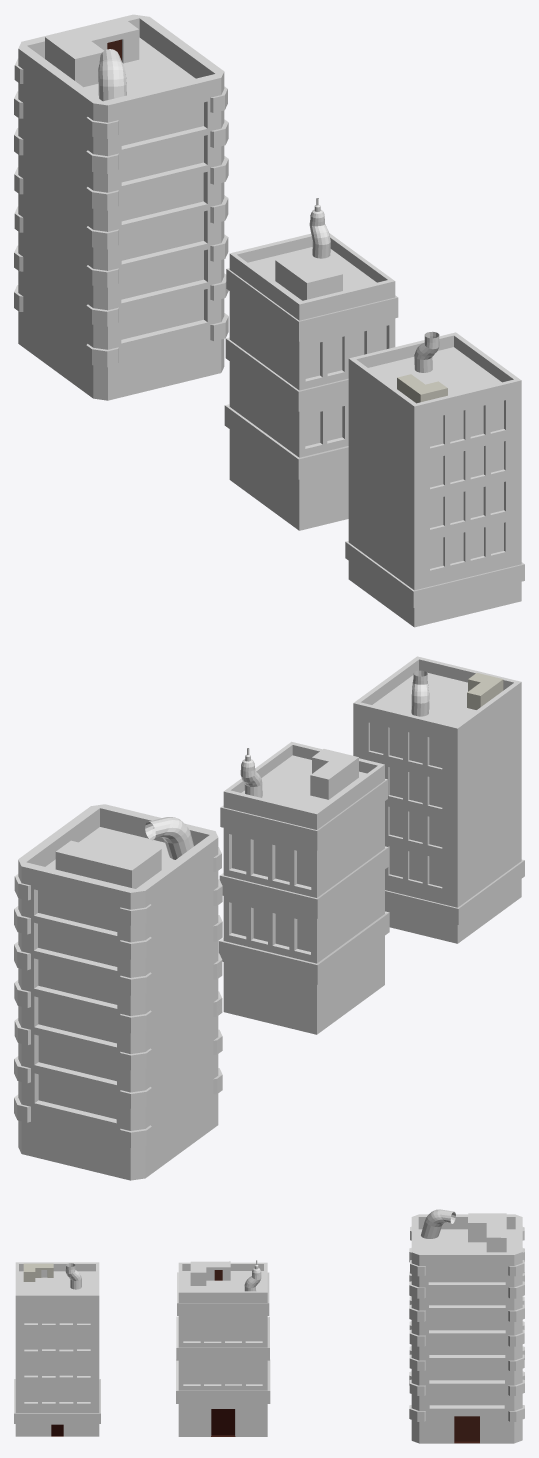
Rendered from Buildings.fbx.
3 views of the same model, one above another, from view 1: azimuth 30°, elevation 25°; view 2: azimuth 150°, elevation 25°; view 3: azimuth 270°, elevation 25° (orthographic). The views are drawn at different scales.
Parts seen in each view (by area): view 1: Cube.002, Cube.001, Cube, Cube.003, Cylinder, Cylinder.001, Cylinder.002; view 2: Cube.002, Cube, Cube.001, Cube.003, Cylinder, Cylinder.002, Cylinder.001; view 3: Cube.002, Cube, Cube.001, Cube.003, Cylinder, Cylinder.002, Cylinder.001.
Part boxes in pixels (x1,y1,x2,y2): Cube.002: (14,14,228,400); Cube.001: (345,332,524,627); Cube: (224,233,398,530); Cube.003: (45,18,139,87); Cylinder: (98,49,126,101); Cylinder.001: (309,198,330,258); Cylinder.002: (414,331,439,372); Cube.002: (14,804,222,1180); Cube: (218,741,389,1034); Cube.001: (353,656,524,943); Cube.003: (55,840,161,888); Cylinder: (145,817,193,859); Cylinder.002: (411,670,429,716); Cylinder.001: (240,748,262,797); Cube.002: (409,1214,524,1443); Cube: (176,1261,270,1436); Cube.001: (14,1262,100,1436); Cube.003: (468,1213,506,1252); Cylinder: (421,1209,455,1238); Cylinder.002: (65,1263,81,1289); Cylinder.001: (244,1260,261,1291).
Size of the model in its own units: 445 by 995 by 2258.
